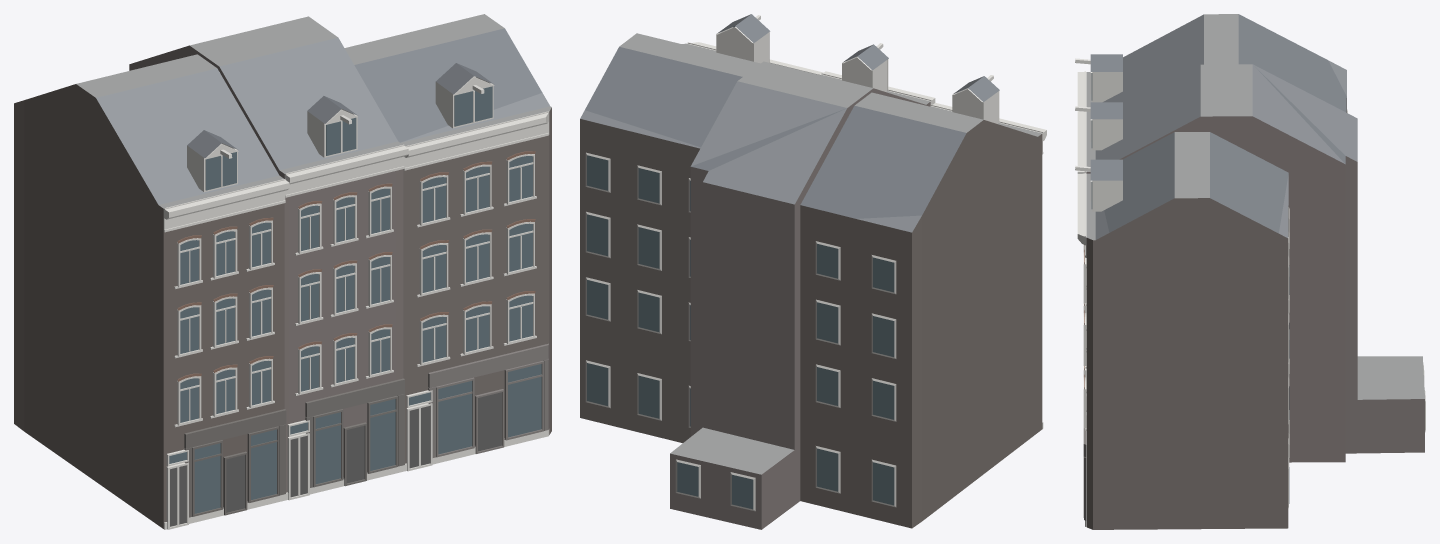
The model's file is chunk-face-helst-39-49-r1.glb.
3 renders of one model, left to right at view 1: azimuth 30°, elevation 25°; view 2: azimuth 150°, elevation 25°; view 3: azimuth 270°, elevation 25°, orthographic. The views are drawn at different scales.
Visible parts, largest first — view 1: face-helst-39-49-r1; view 2: face-helst-39-49-r1; view 3: face-helst-39-49-r1.
Part boxes in pixels (box(x1,y1,x2,y2)): face-helst-39-49-r1: box(14, 14, 551, 529); face-helst-39-49-r1: box(580, 14, 1046, 529); face-helst-39-49-r1: box(1075, 14, 1425, 529).
Size of the model in its own units: 18.06 by 16.85 by 15.46.
